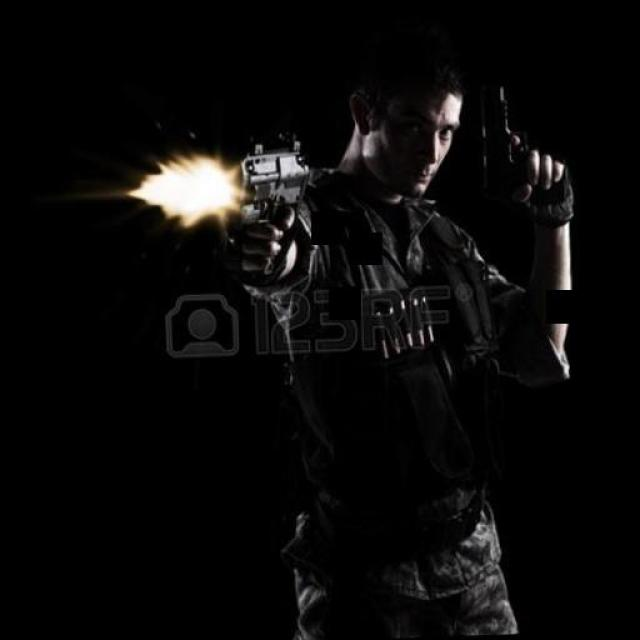gun: (458, 55, 572, 226), (200, 126, 310, 292)
